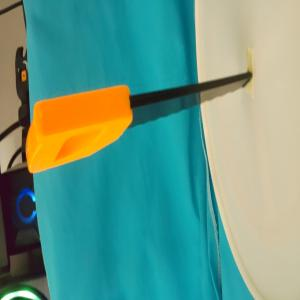serrote: (25, 71, 253, 174)
